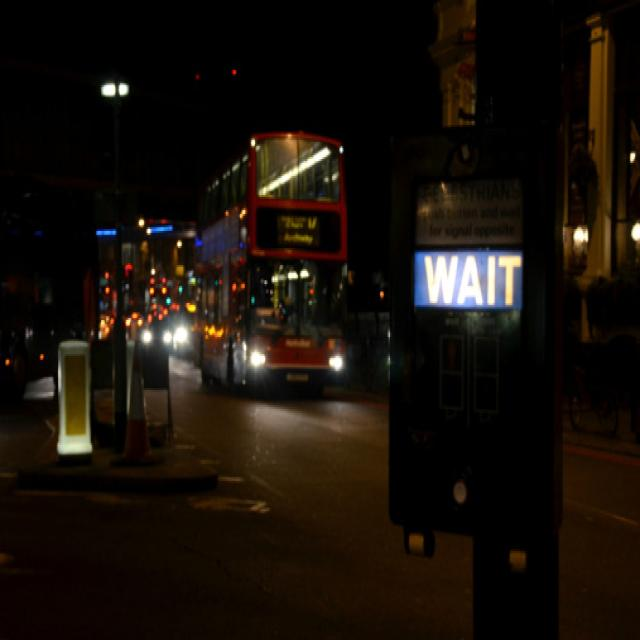Bus: (191, 98, 354, 424)
car: (164, 287, 191, 375), (123, 305, 162, 359)
